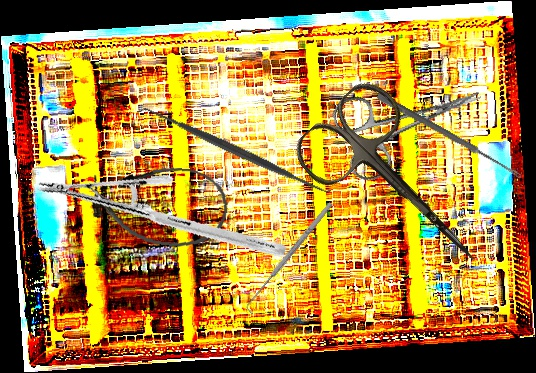Cannula: (86, 157, 233, 253)
Hook Surgical: (242, 200, 338, 315)
Iris Scissors: (286, 72, 513, 301), (329, 57, 495, 186)
Needle Holder: (35, 125, 289, 312)
Spatula Surgical: (134, 95, 335, 206)
Surgical Spoon: (375, 92, 524, 180)
